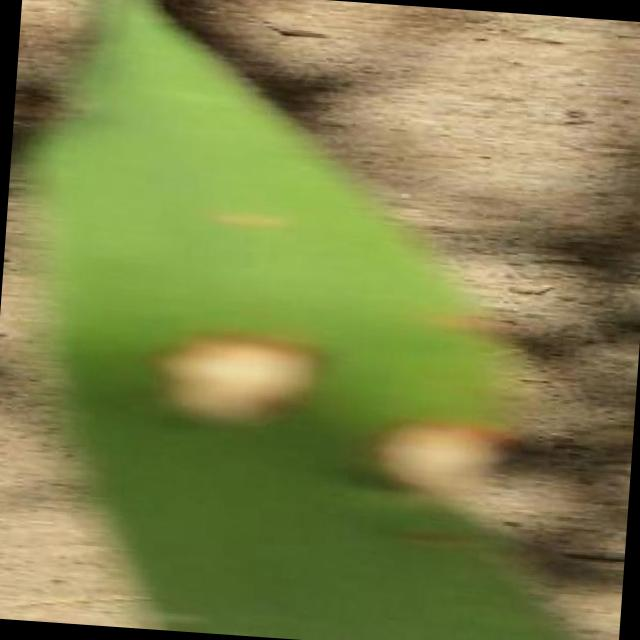Rice_Blast: (112, 292, 359, 466), (344, 376, 542, 512)
